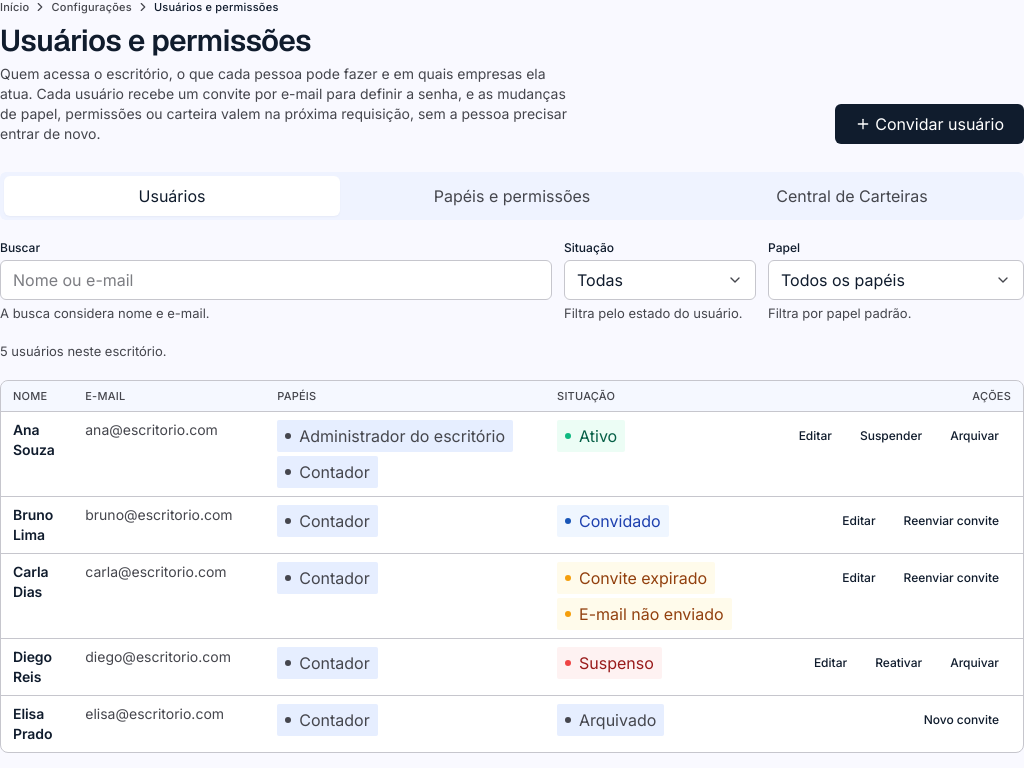
Test: ações de ciclo de vida › último administrador: a explicação aparece no próprio diálogo, não como toast
Expected: the table is shown, [1, 381, 1023, 752]
Click the button with aria-label "Suspender — Ana Souza". click: {"x": 891, "y": 436}
box: [848, 420, 934, 452]
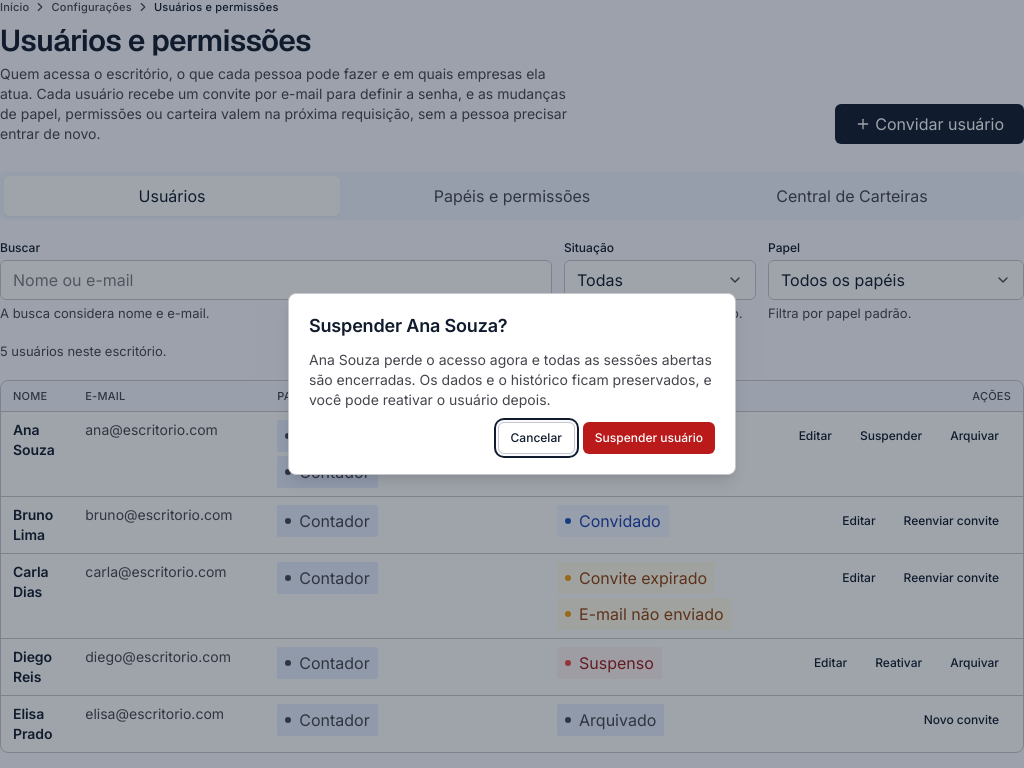
Click the button "Suspender usuário". click: {"x": 649, "y": 438}
box: [583, 422, 715, 454]
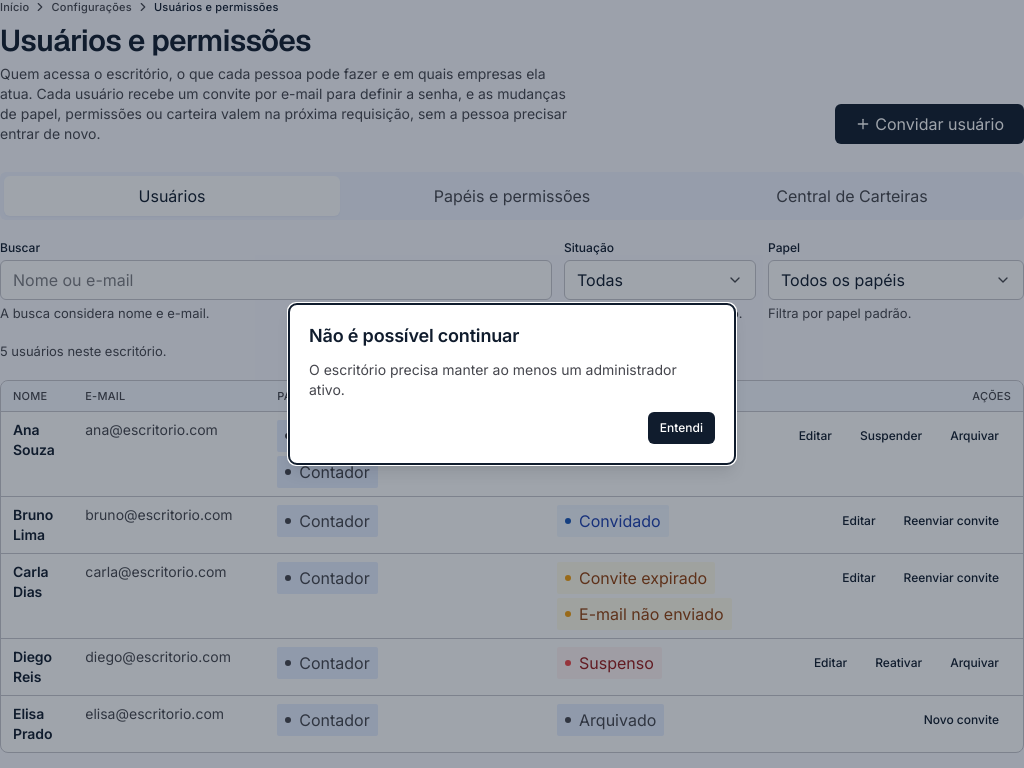
Expected: the heading "Não é possível continuar" is shown, [309, 325, 519, 346]
Expected: the dialog shows "ao menos um administrador ativo", [309, 361, 677, 398]
Expected: the button "Entendi" is shown, [648, 412, 715, 444]
